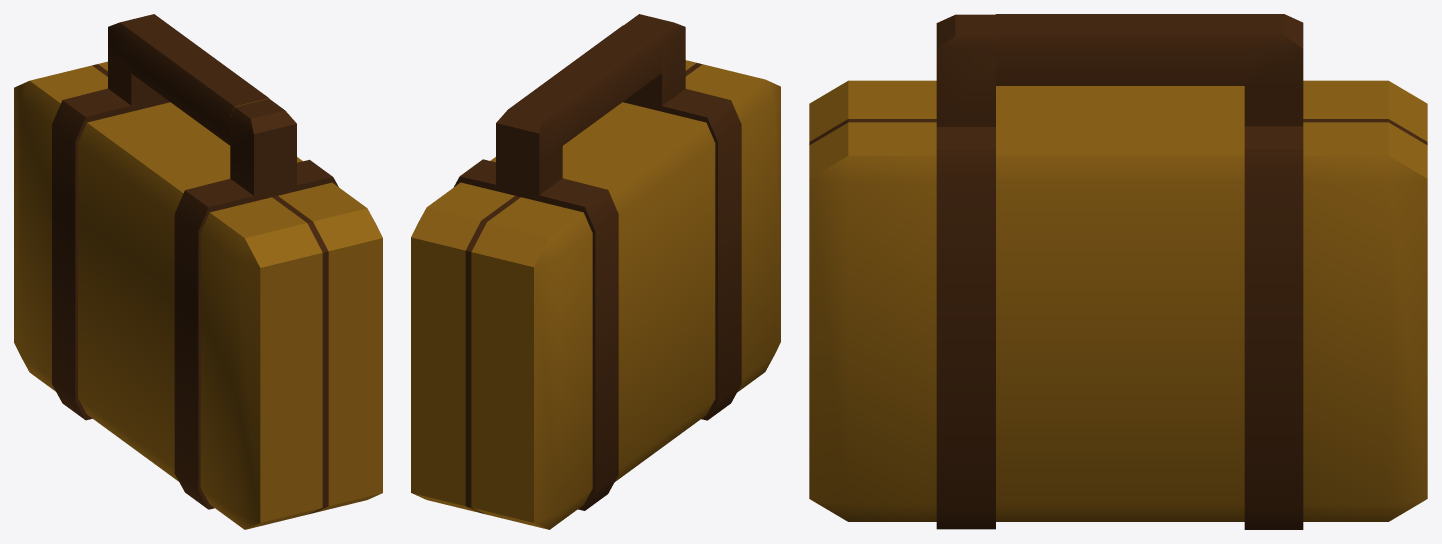
Rendered from Koffer.fbx.
The picture shows the model from 3 angles, left to right: view 1: azimuth 30°, elevation 25°; view 2: azimuth 150°, elevation 25°; view 3: azimuth 270°, elevation 25°; orthographic projection. The views are drawn at different scales.
Parts seen in each view (by area): view 1: Koffer; view 2: Koffer; view 3: Koffer.
Part boxes in pixels (x1,y1,x2,y2): Koffer: [14, 14, 382, 529]; Koffer: [411, 14, 780, 529]; Koffer: [809, 14, 1427, 529].
Size of the model in its own units: 0.346 by 0.8492 by 1.01.
